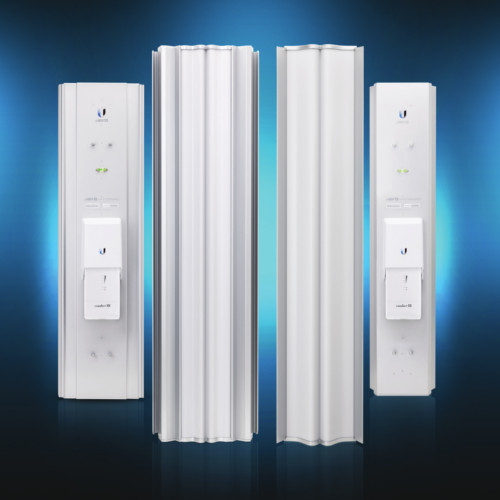sa: (135, 38, 268, 453), (264, 33, 364, 460), (39, 76, 151, 411), (366, 70, 443, 407)
